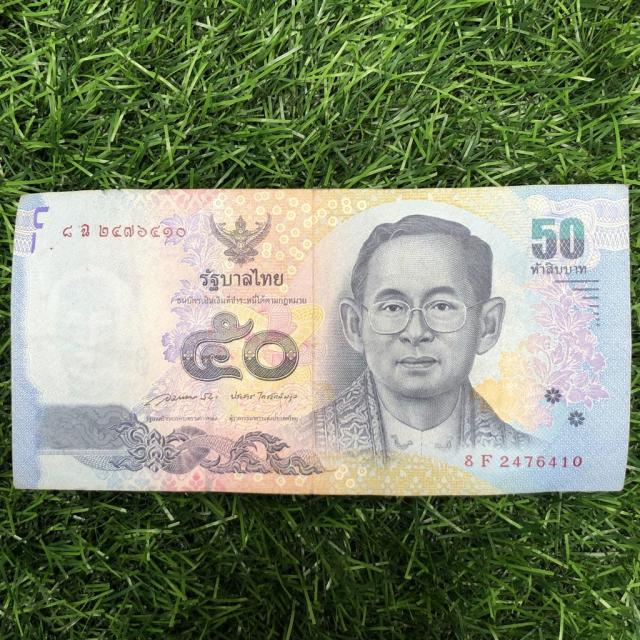THAI50: (11, 185, 631, 496)
